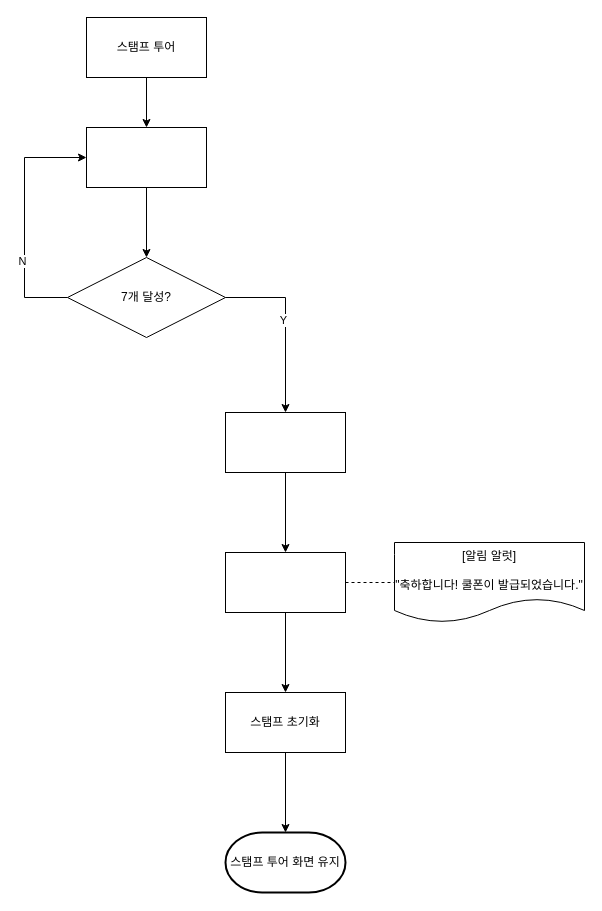
Some shapes in this 602 by 911 pixel diagram are drawn without their labels. Each missing label, with the centre of its shape:
"스탬프 확인창" belongs at (146,157).
"쿠폰 발급 (유효기간 6개월)" belongs at (285,442).
"쿠폰함에 추가" belongs at (285,582).
